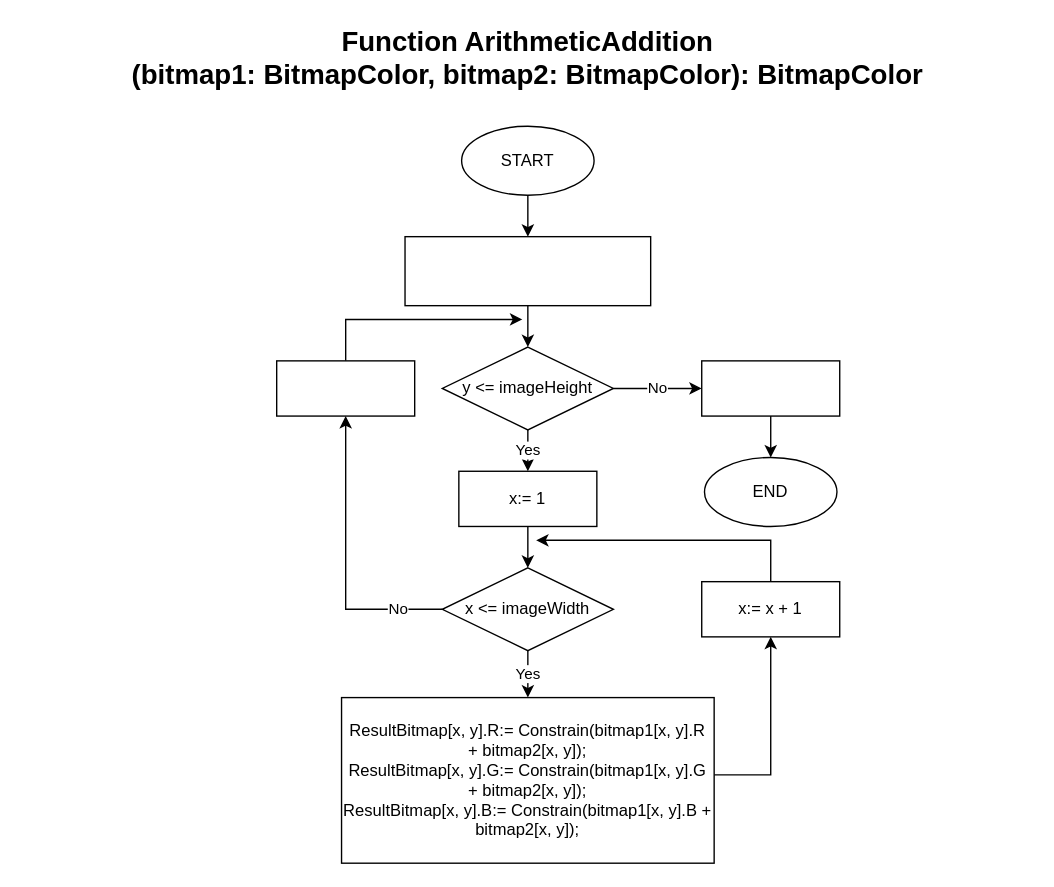
Image size: 1054x887. Some labels were removed from this diagram. The shapes that lost their labels are listed below. From the top down, each one's box as (x1, y1, x2, y2) in pixels, then its label:
(404, 235, 651, 306): ResultBitmap: BitmapColor y:= 1
(275, 359, 415, 416): y:= y + 1
(700, 359, 840, 416): return ResultBitmap
